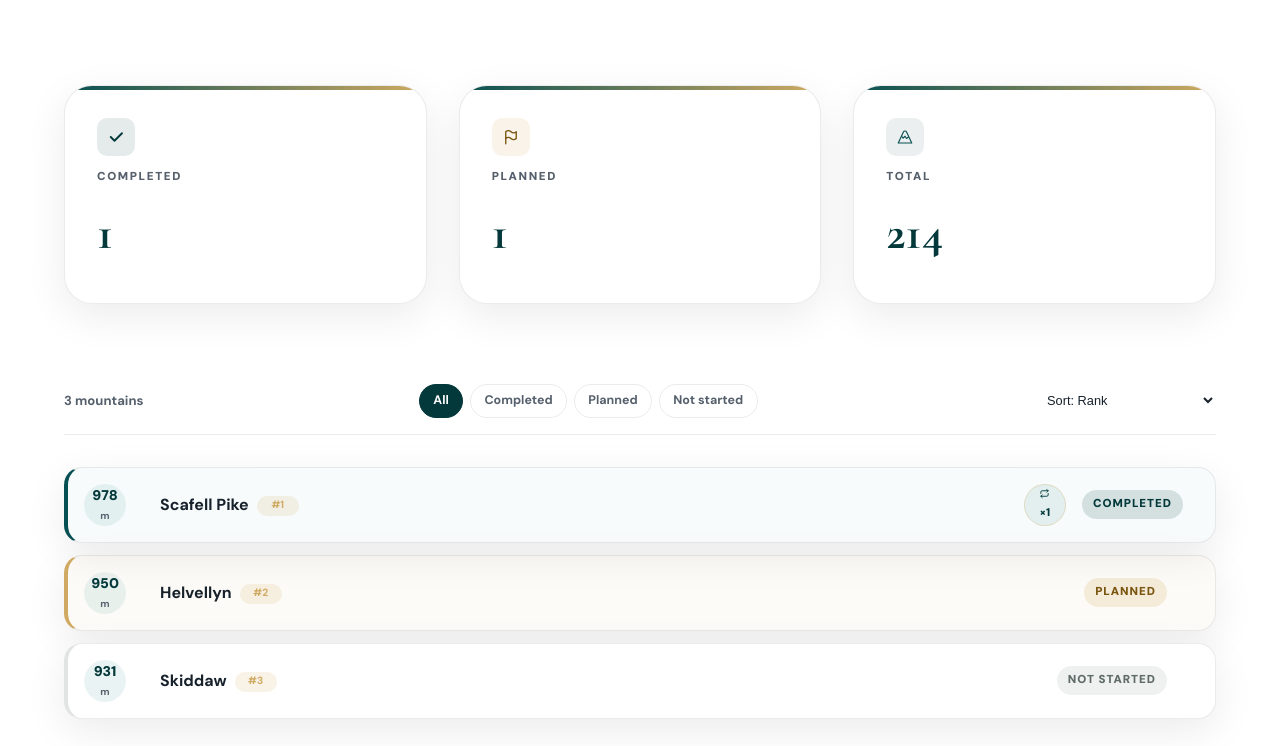
Test: CollectionDetailPage — success state › filters to planned mountains only
This screenshot has width=1280, height=746.
(page scrolled)
Expected: the text "Helvellyn" is shown, [160,582,232,603]
Click the button "Planned": click(613, 401) [574,384,652,418]
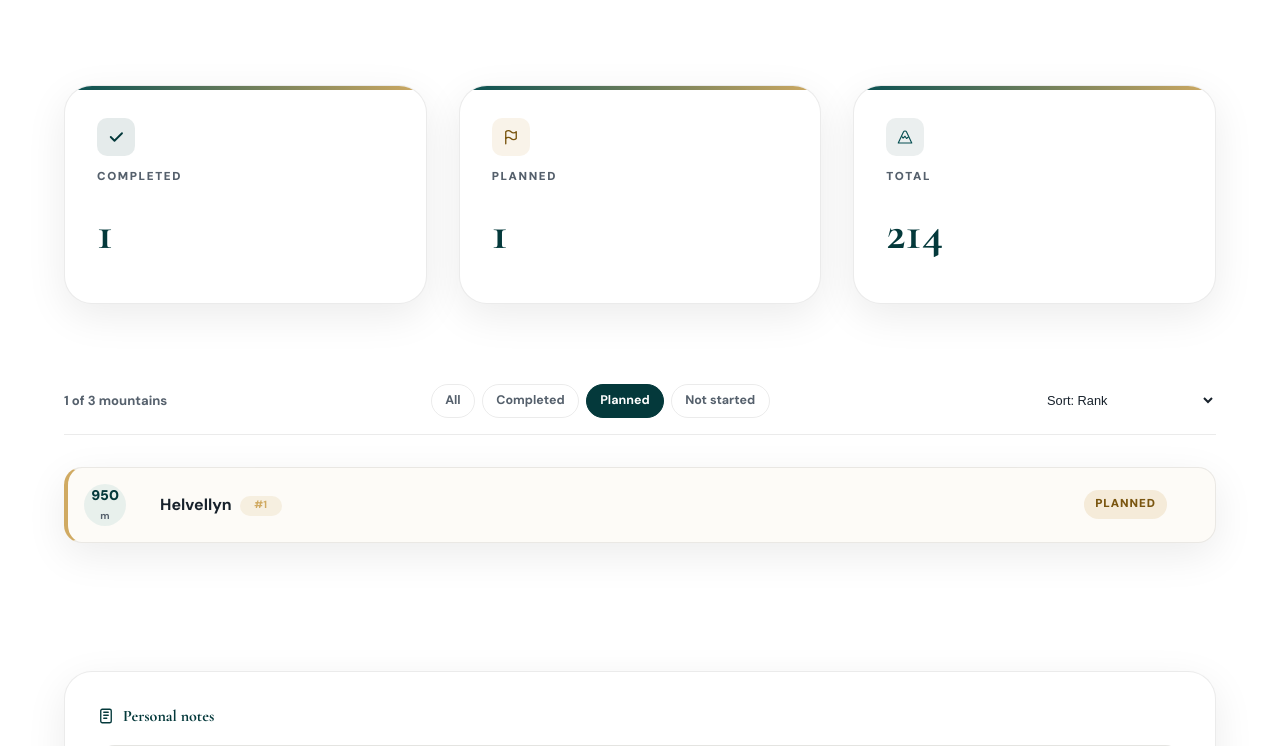
Expected: the text "Helvellyn" is shown, [160,494,232,515]
Now the link "Scafell Pike" is gone
Now the link "Skiddaw" is gone
